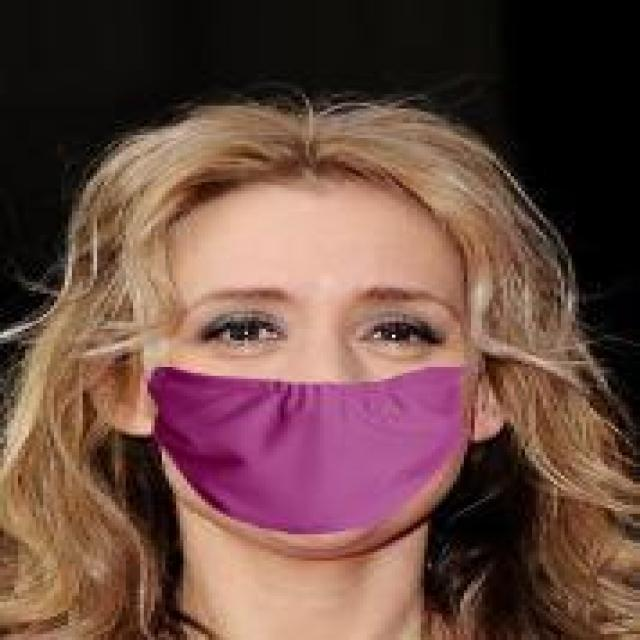mask: (83, 80, 539, 578)
